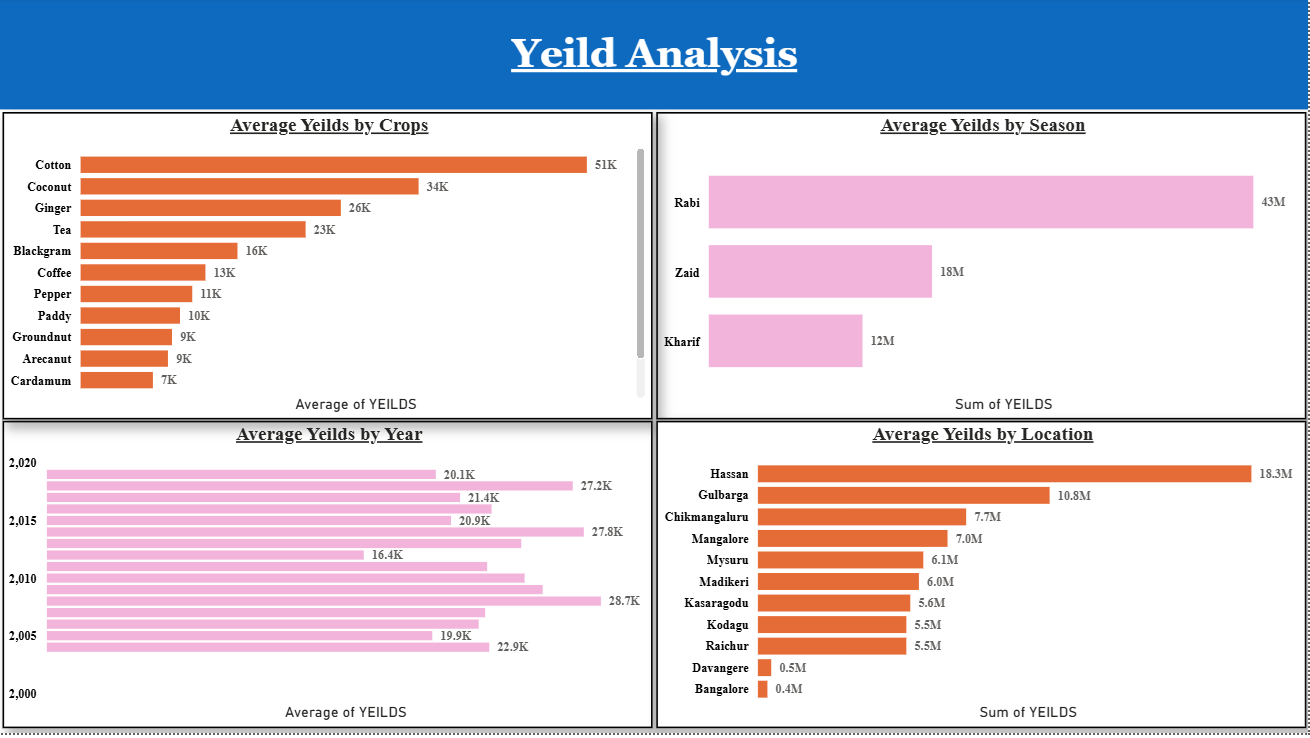

Layout of this report page (visuals, bound fields, positions):
{"tool":"powerbi","page":{"name":"Yeild Analysis","canvas":[1280,720],"ordinal":3},"visuals":[{"type":"shape","box":[0,0,1280,110],"z":0},{"type":"barChart","title":"Average Yeilds by Year","fields":{"Category":["AGRICULTURE.YEAR"],"Y":["Sum(AGRICULTURE.YEILDS)"]},"box":[2,415,636,301],"z":1000},{"type":"barChart","title":"Average Yeilds by Season","fields":{"Category":["AGRICULTURE.SEASON"],"Y":["Sum(AGRICULTURE.YEILDS)"]},"box":[642,112,636,301],"z":2000},{"type":"barChart","title":"Average Yeilds by Crops","fields":{"Category":["AGRICULTURE.CROPS"],"Y":["Sum(AGRICULTURE.YEILDS)"]},"box":[2,112,636,301],"z":3000},{"type":"barChart","title":"Average Yeilds by Location","fields":{"Category":["AGRICULTURE.LOCATION"],"Y":["Sum(AGRICULTURE.YEILDS)"]},"box":[642,415,636,301],"z":4000}]}

Visuals, with their boxes in screenshot pixels (x1, y1, x2, y2), scaled from the page's 1280x720 canvas onto the 1310x738 screenshot:
shape: 0/0/1309/113
"Average Yeilds by Year" barChart: 2/425/653/734
"Average Yeilds by Season" barChart: 657/115/1308/423
"Average Yeilds by Crops" barChart: 2/115/653/423
"Average Yeilds by Location" barChart: 657/425/1308/734
